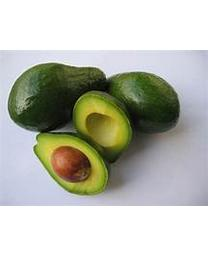avocado: (8, 63, 104, 131), (31, 130, 110, 196), (104, 72, 182, 135), (72, 89, 133, 160)
